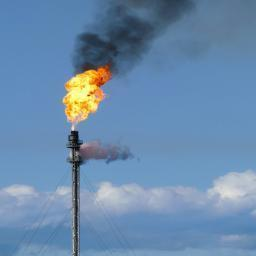fire: (62, 61, 114, 129)
smoke: (70, 0, 256, 80), (75, 136, 141, 167), (69, 150, 72, 157)
